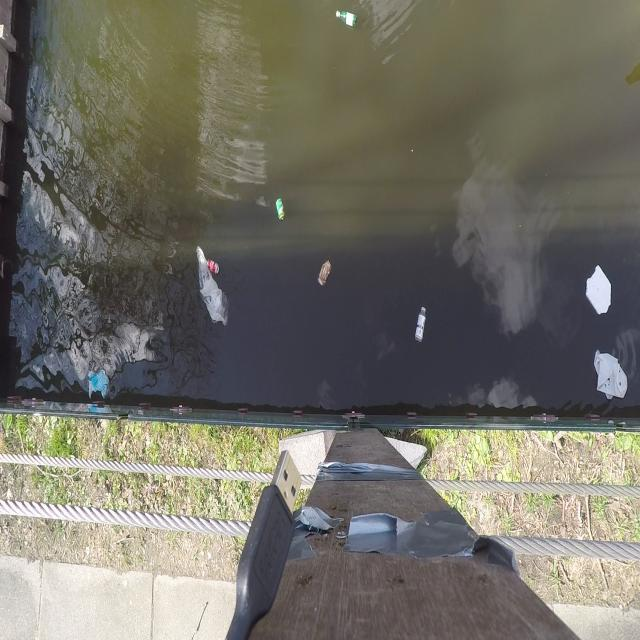Autre plastique: (580, 258, 618, 325)
Bouteille plastique: (414, 302, 429, 348), (334, 7, 360, 33)
Non plastique: (316, 256, 335, 294), (277, 196, 289, 227), (208, 256, 223, 276)
Sac plastique: (188, 232, 236, 333), (84, 363, 113, 403)
